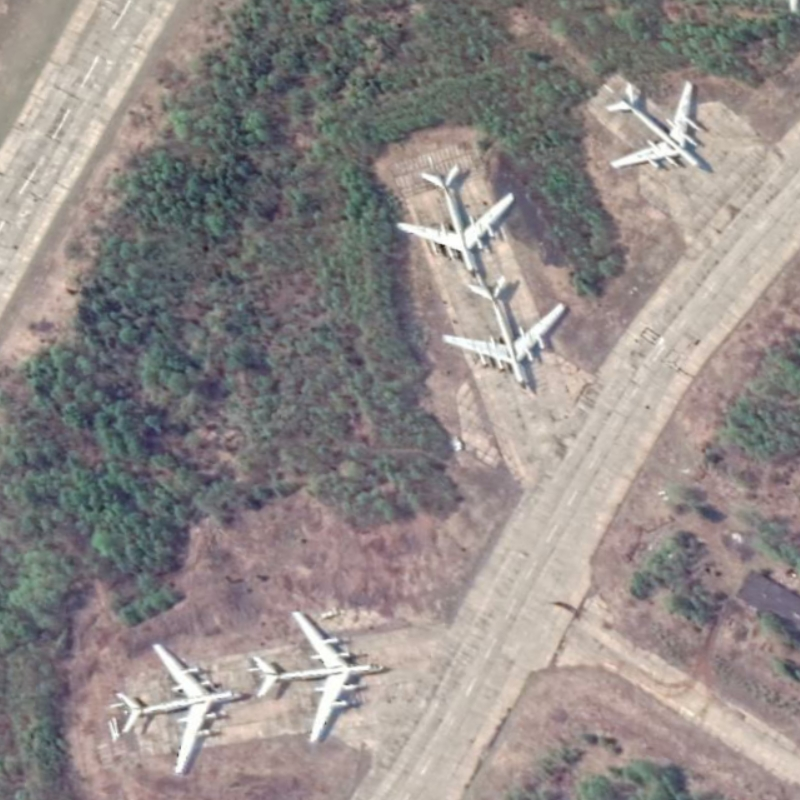A17: (111, 639, 253, 782), (248, 606, 386, 751), (439, 266, 571, 395), (391, 159, 518, 284), (595, 75, 709, 180)
